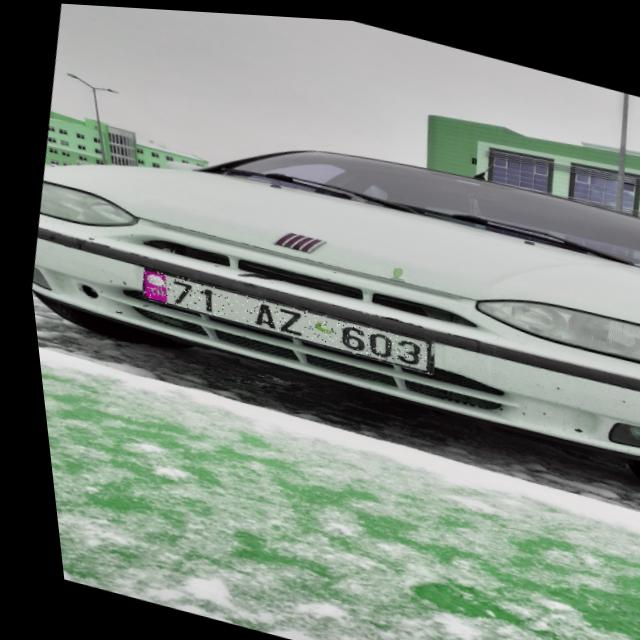license_plate: (132, 265, 430, 370)
